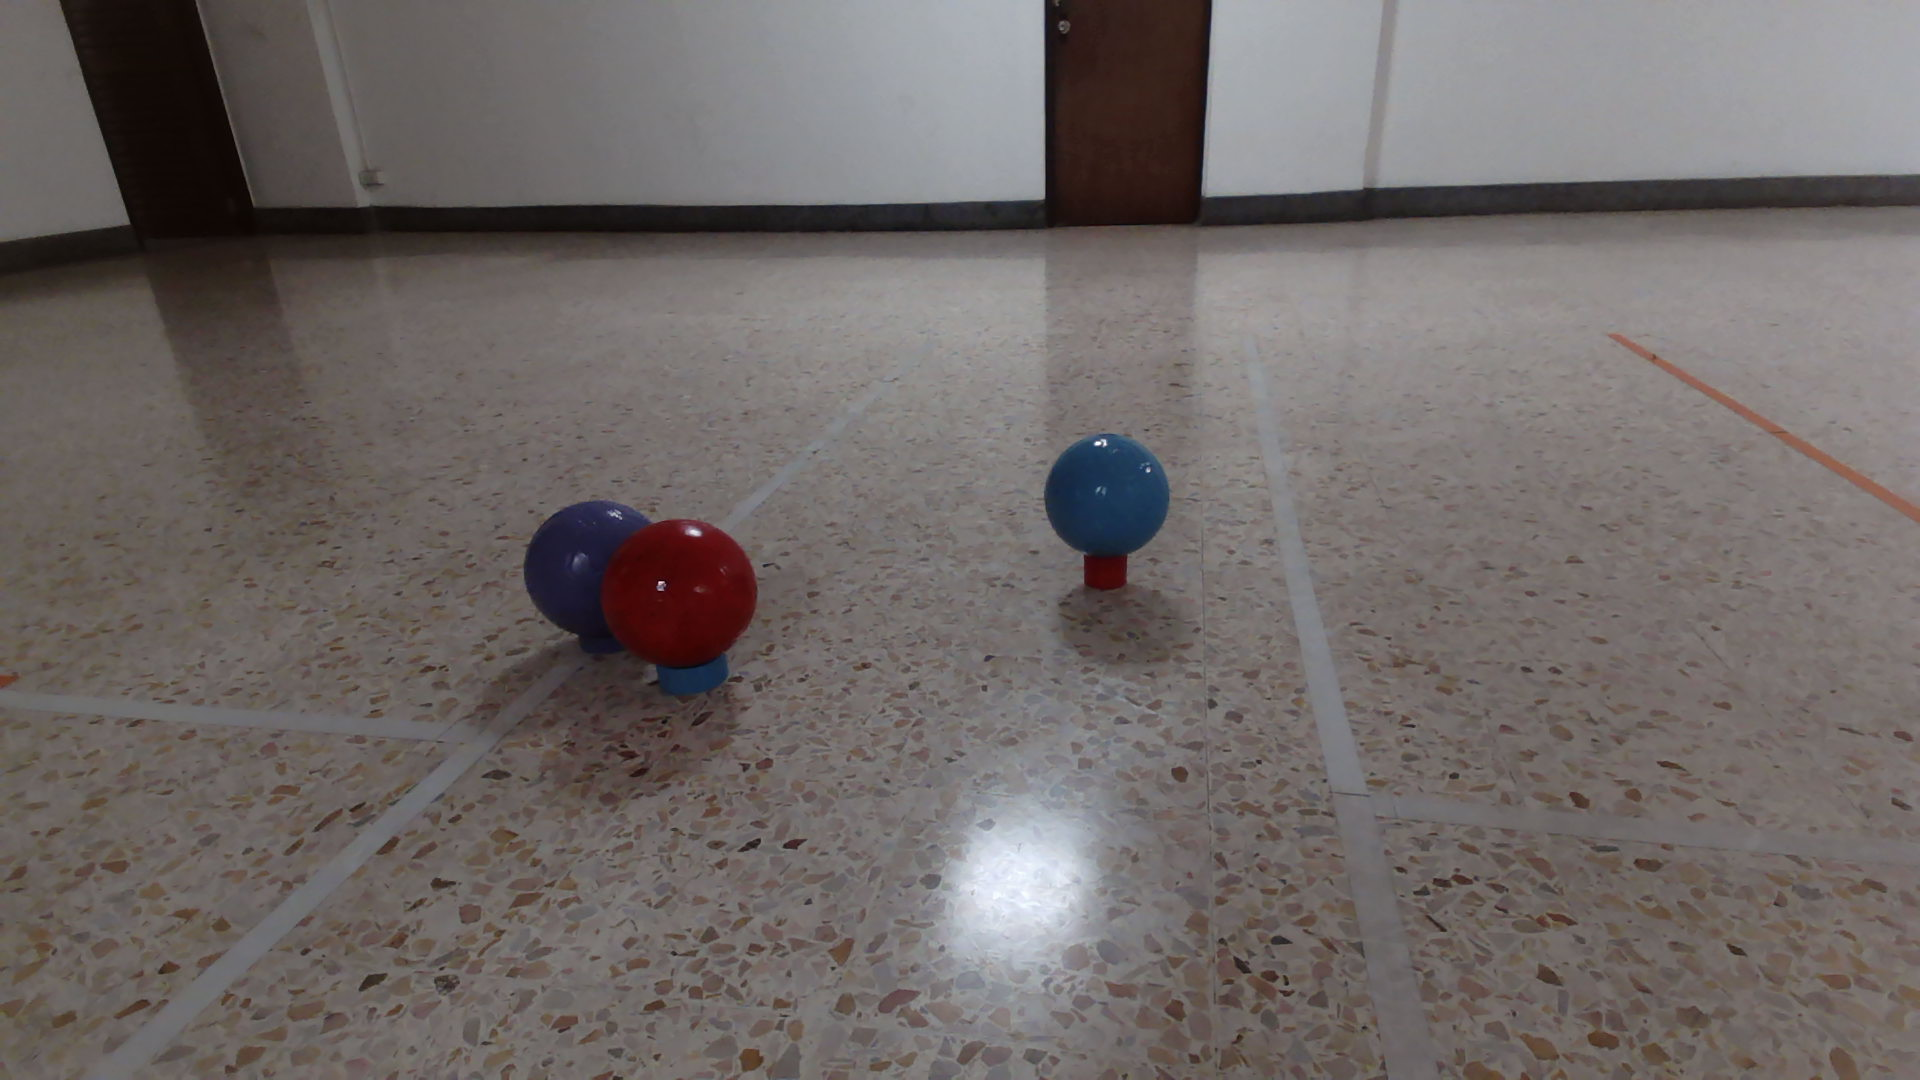Blue ball: (1040, 431, 1171, 558)
Purple ball: (520, 500, 638, 634)
Red ball: (597, 516, 760, 670)
